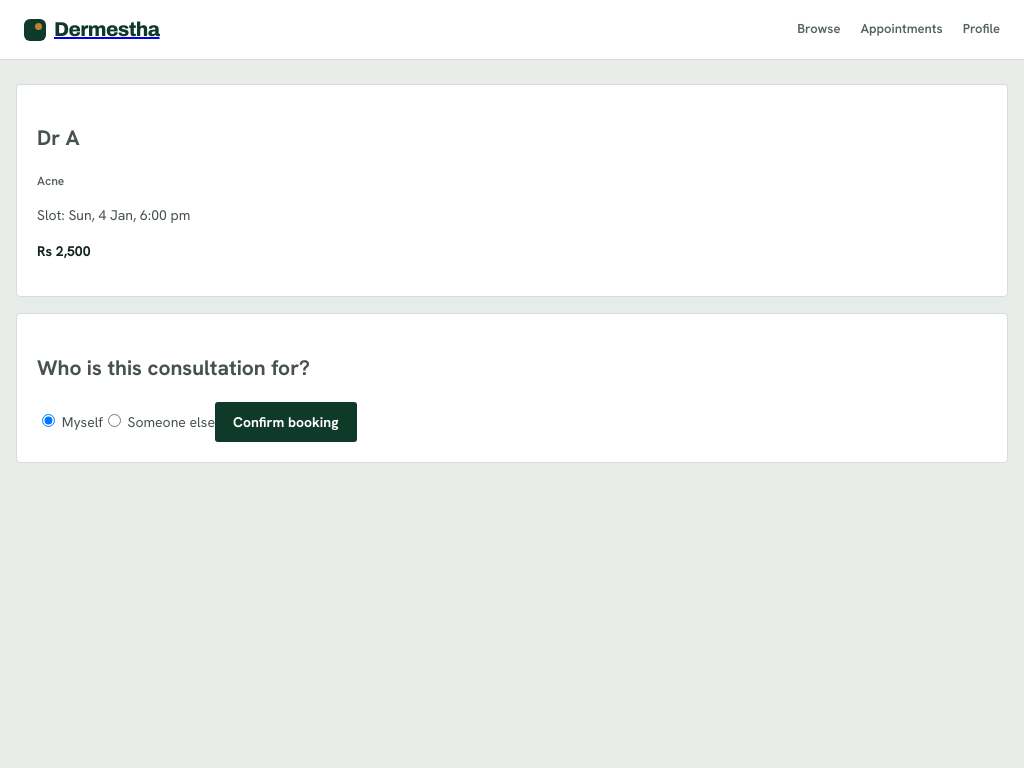
Test case: P-06 Booking › shows a "Go to your appointments" link when an active appointment blocks a new booking
Check: the heading "Dr A" is shown, box [37,124,80,151]
Click the button "Confirm booking" at (286, 422), box [215,402,356,442]
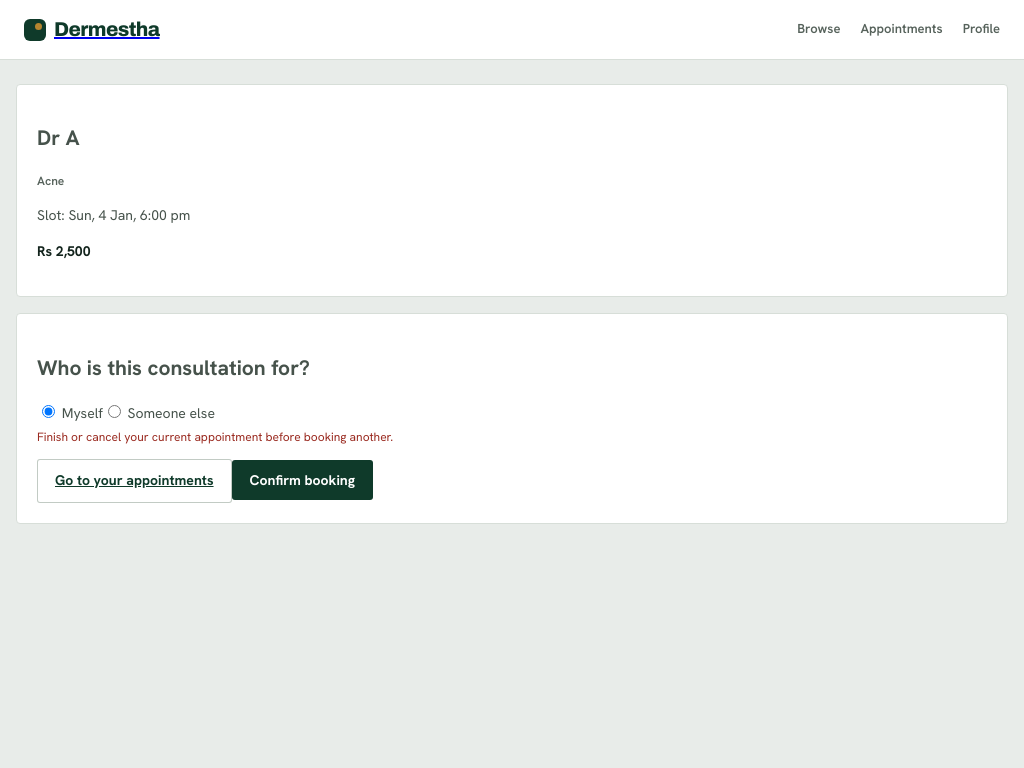
Check: the text "Finish or cancel your current appointment before booking another." is shown, box [37,429,393,445]
